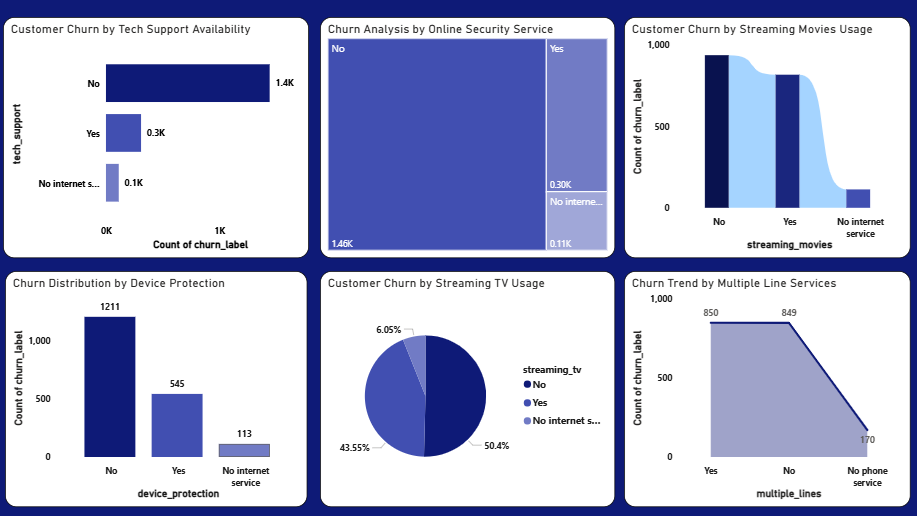

The page's visual inventory and layout, read from the dashboard file:
{"tool":"powerbi","page":{"name":"Page 3","canvas":[1280,720],"ordinal":2},"visuals":[{"type":"shape","box":[0,0,1280,720],"z":0},{"type":"barChart","title":"Customer Churn by Tech Support Availability","fields":{"Category":["customer_churn_final_dashboard.tech_support"],"Y":["CountNonNull(customer_churn_final_dashboard.churn_label)"]},"box":[6.7,25,425,335],"z":1000},{"type":"treemap","title":"Churn Analysis by Online Security Service","fields":{"Group":["customer_churn_final_dashboard.online_security"],"Values":["CountNonNull(customer_churn_final_dashboard.churn_label)"]},"box":[446.7,25,410,335],"z":2000},{"type":"clusteredColumnChart","title":"Churn Distribution by Device Protection","fields":{"Category":["customer_churn_final_dashboard.device_protection"],"Y":["CountNonNull(customer_churn_final_dashboard.churn_label)"]},"box":[10,378.3,420,328.3],"z":3000},{"type":"pieChart","title":"Customer Churn by Streaming TV Usage","fields":{"Category":["customer_churn_final_dashboard.streaming_tv"],"Y":["CountNonNull(customer_churn_final_dashboard.churn_label)"]},"box":[446.7,378.3,410,328.3],"z":4000},{"type":"ribbonChart","title":"Customer Churn by Streaming Movies Usage","fields":{"Category":["customer_churn_final_dashboard.streaming_movies"],"Y":["CountNonNull(customer_churn_final_dashboard.churn_label)"]},"box":[870,25,398.3,335],"z":5000},{"type":"areaChart","title":"Churn Trend by Multiple Line Services","fields":{"Category":["customer_churn_final_dashboard.multiple_lines"],"Y":["CountNonNull(customer_churn_final_dashboard.churn_label)"]},"box":[870,378.3,398.3,328.3],"z":6000}]}

Visuals, with their boxes in screenshot pixels (x1, y1, x2, y2), scaled from the page's 1280x720 canvas onto the 917x516 screenshot:
shape: box(0, 0, 916, 515)
"Customer Churn by Tech Support Availability" barChart: box(5, 18, 309, 258)
"Churn Analysis by Online Security Service" treemap: box(320, 18, 614, 258)
"Churn Distribution by Device Protection" clusteredColumnChart: box(7, 271, 308, 506)
"Customer Churn by Streaming TV Usage" pieChart: box(320, 271, 614, 506)
"Customer Churn by Streaming Movies Usage" ribbonChart: box(623, 18, 909, 258)
"Churn Trend by Multiple Line Services" areaChart: box(623, 271, 909, 506)
